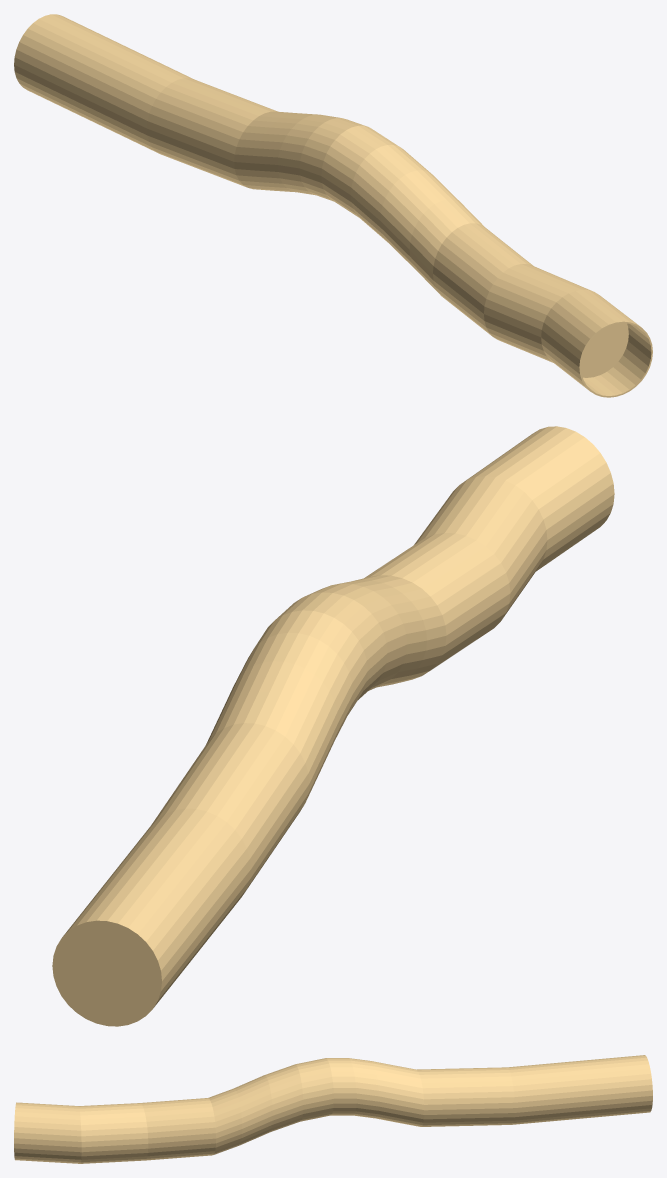
Rendered from papierrolle_knick.glb.
3 renders of one model, top to bottom at view 1: azimuth 30°, elevation 25°; view 2: azimuth 150°, elevation 25°; view 3: azimuth 270°, elevation 25°, orthographic. The views are drawn at different scales.
Parts seen in each view (by area): view 1: Cylinder.001; view 2: Cylinder.001; view 3: Cylinder.001.
Boxes of the visible parts, bbox=[...] form: Cylinder.001: bbox=[14, 14, 652, 397]; Cylinder.001: bbox=[52, 426, 614, 1026]; Cylinder.001: bbox=[14, 1055, 652, 1163].
Bounding box in the file's own units: 2.32 × 1.39 × 9.25.
